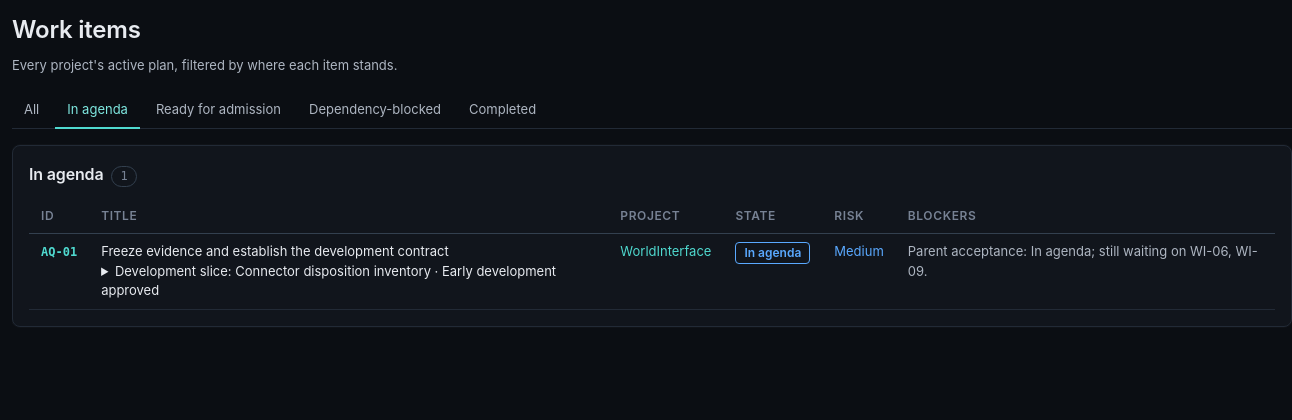
Test case: shows an early development slice separately from blocked parent acceptance in the agenda
Expected: the text "Parent acceptance: In agenda; still waiting on WI-06, WI-09." is shown, top-left (896, 234), bottom-right (1275, 309)
Click the heading "Development slice: Connector disposition inventory" at (349, 281), box top-left (101, 262), bottom-right (596, 301)
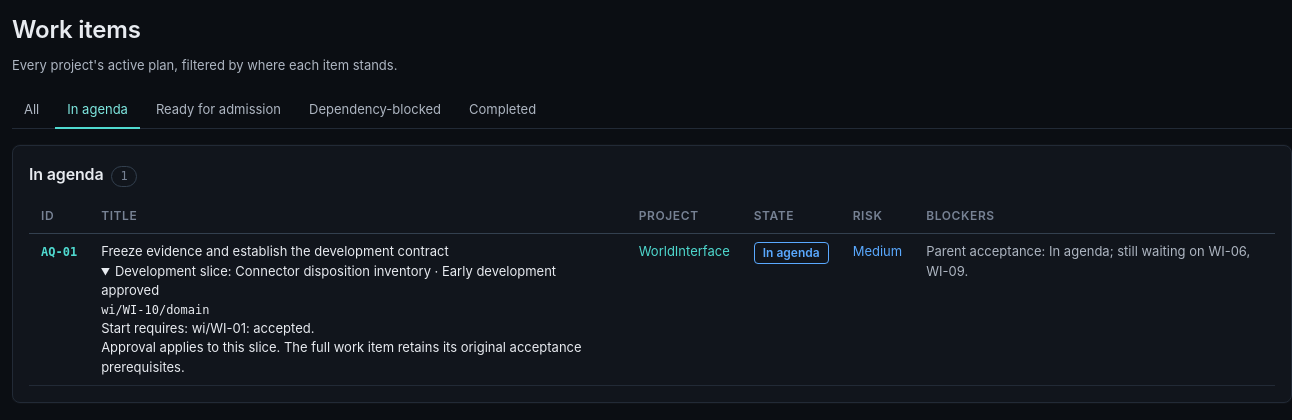
Now the text "Start requires: wi/WI-01: accepted." is shown, box top-left (101, 320), bottom-right (314, 336)
